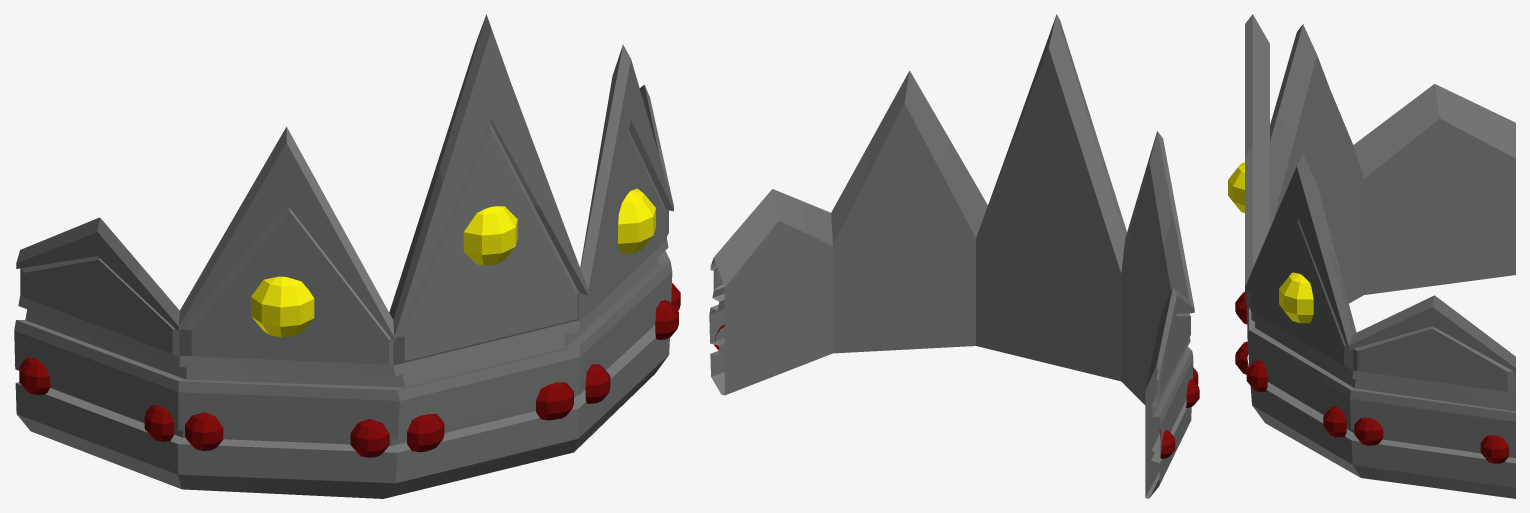
File: Crown.fbx
3 views of the same model, side by side, from view 1: azimuth 30°, elevation 25°; view 2: azimuth 150°, elevation 25°; view 3: azimuth 270°, elevation 25° (orthographic). The views are drawn at different scales.
Parts seen in each view (by area): view 1: Crown; view 2: Crown; view 3: Crown.
Boxes of the visible parts, left/top/right/bottom form: Crown: left=14, top=14, right=680, bottom=498; Crown: left=709, top=14, right=1199, bottom=498; Crown: left=1228, top=14, right=1515, bottom=498.
Bounding box in the file's own units: 207 × 148 × 104.
